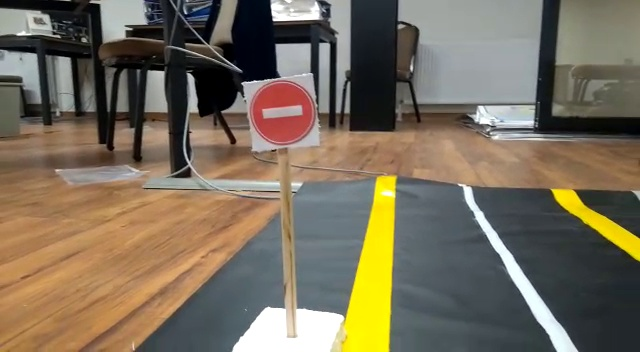girisi_olmayan_yol: (248, 73, 321, 153)
